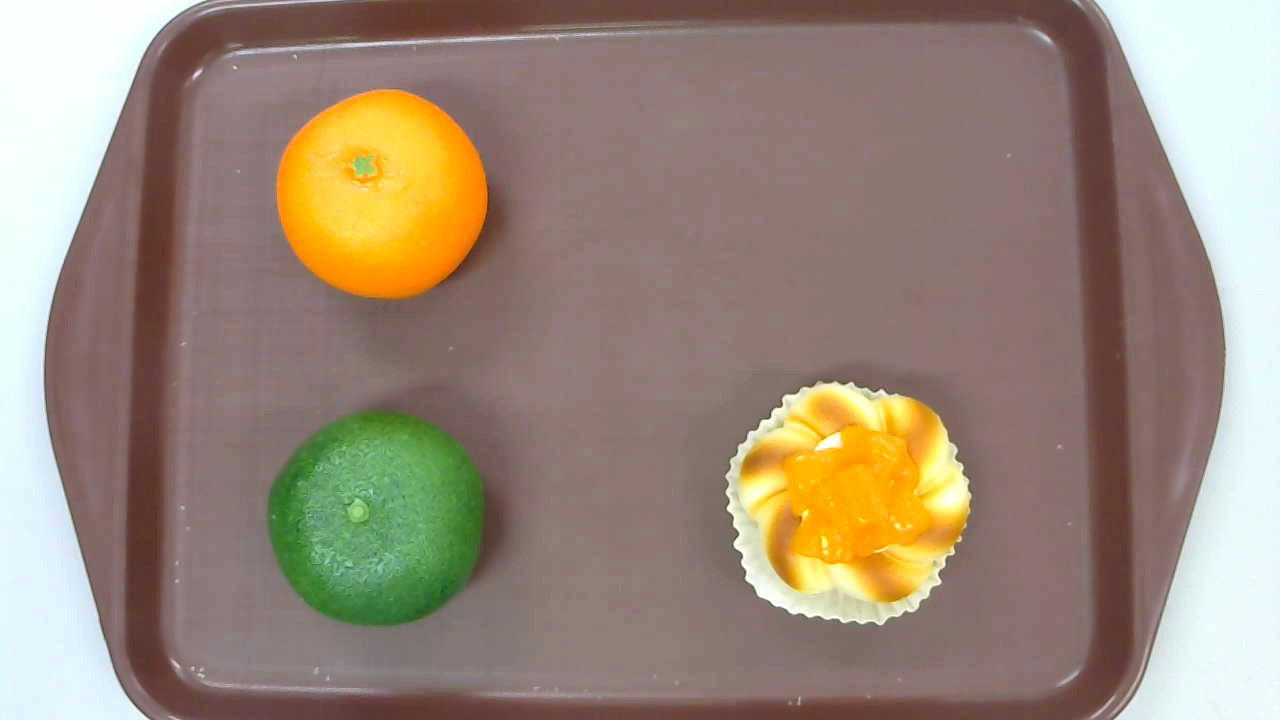green orange: (266, 409, 485, 627)
mango tart: (723, 380, 972, 625)
orange: (275, 90, 489, 300)
